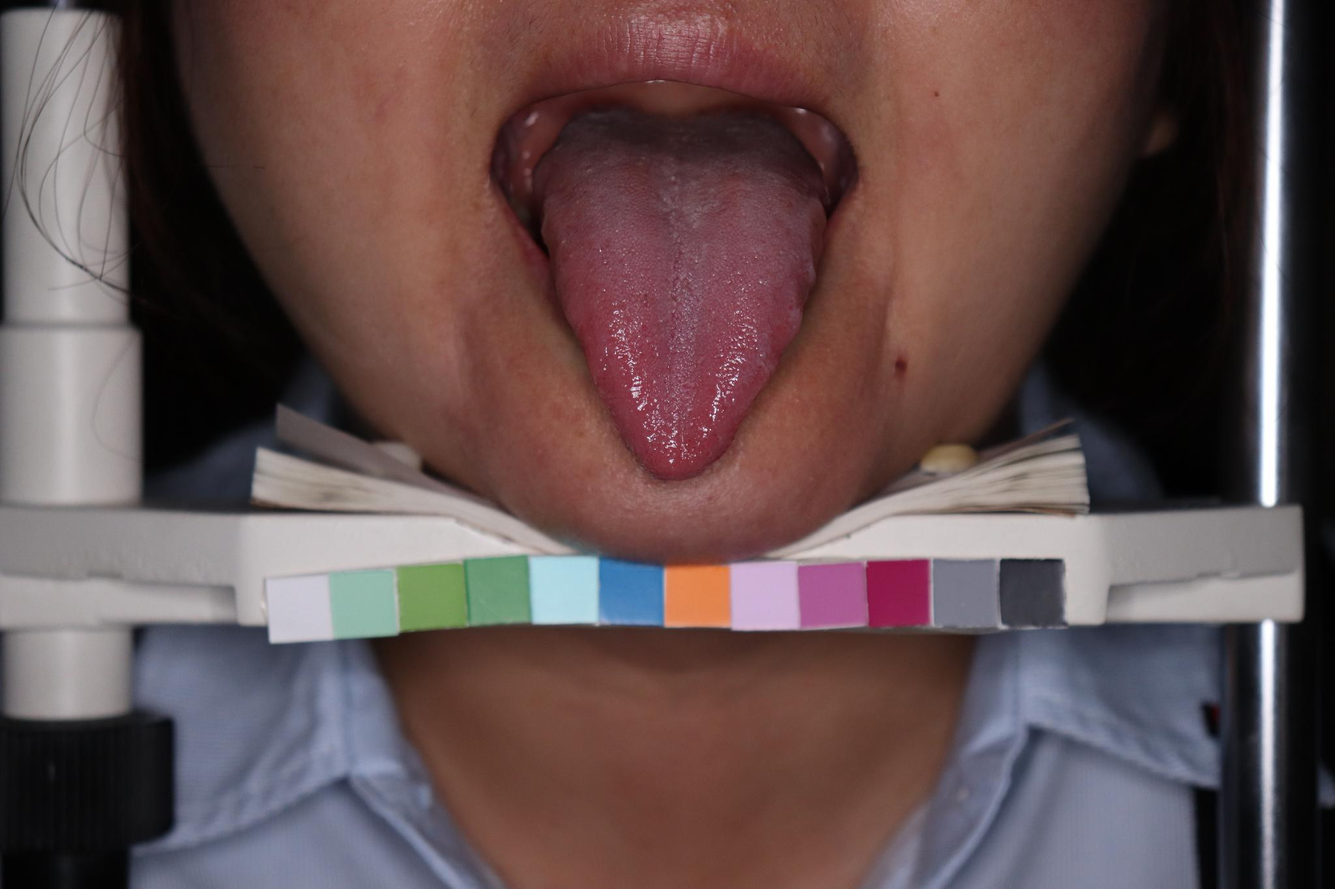baitaishe: (533, 102, 827, 481)
chihenshe: (767, 203, 827, 375)
liewenshe: (660, 171, 682, 373)
zishe: (533, 102, 827, 480)
